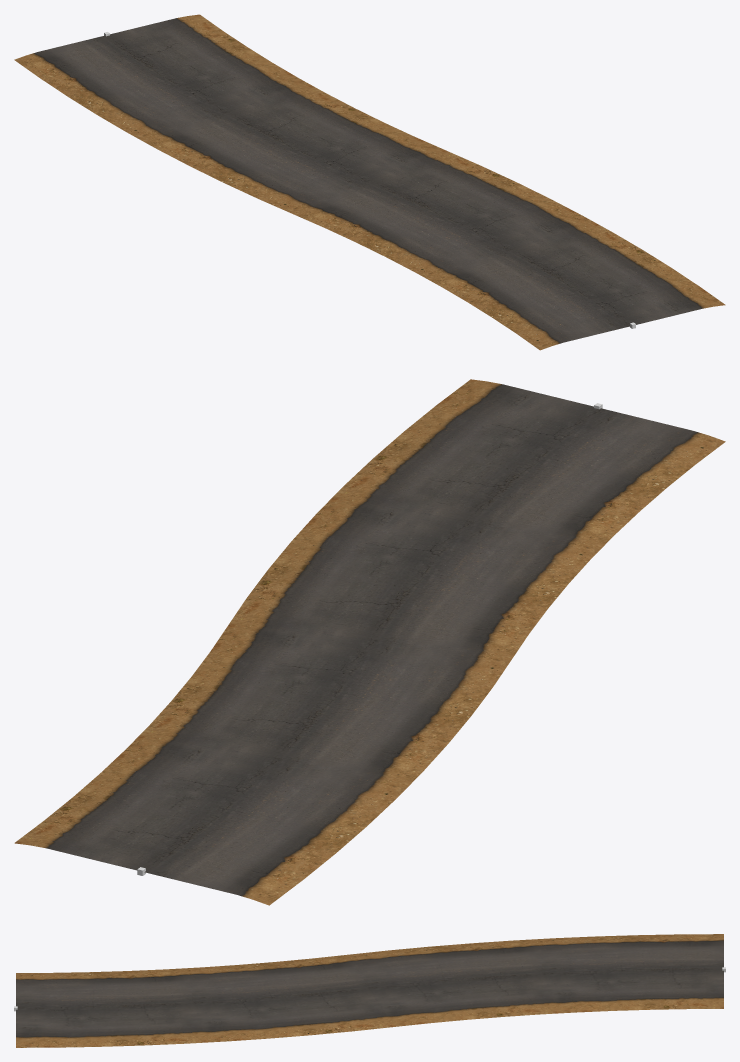
Rendered from roadShift.left1.fbx.
3 views of the same model, one above another, from view 1: azimuth 30°, elevation 25°; view 2: azimuth 150°, elevation 25°; view 3: azimuth 270°, elevation 25° (orthographic). The views are drawn at different scales.
Parts seen in each view (by area): view 1: MESH roadShift.left1; view 2: MESH roadShift.left1; view 3: MESH roadShift.left1.
Boxes of the visible parts, x1,y1,x2,y2 form: MESH roadShift.left1: [14, 14, 725, 350]; MESH roadShift.left1: [14, 379, 725, 905]; MESH roadShift.left1: [16, 934, 723, 1047].
Size of what is drawn, in the model's own units: 3649 by 50.77 by 9650.
